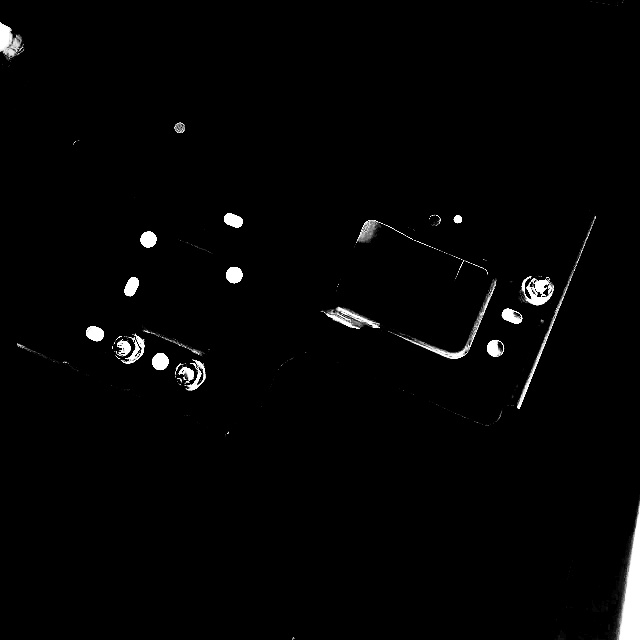dog: (108, 330, 146, 368), (171, 356, 209, 392), (520, 272, 554, 308)
